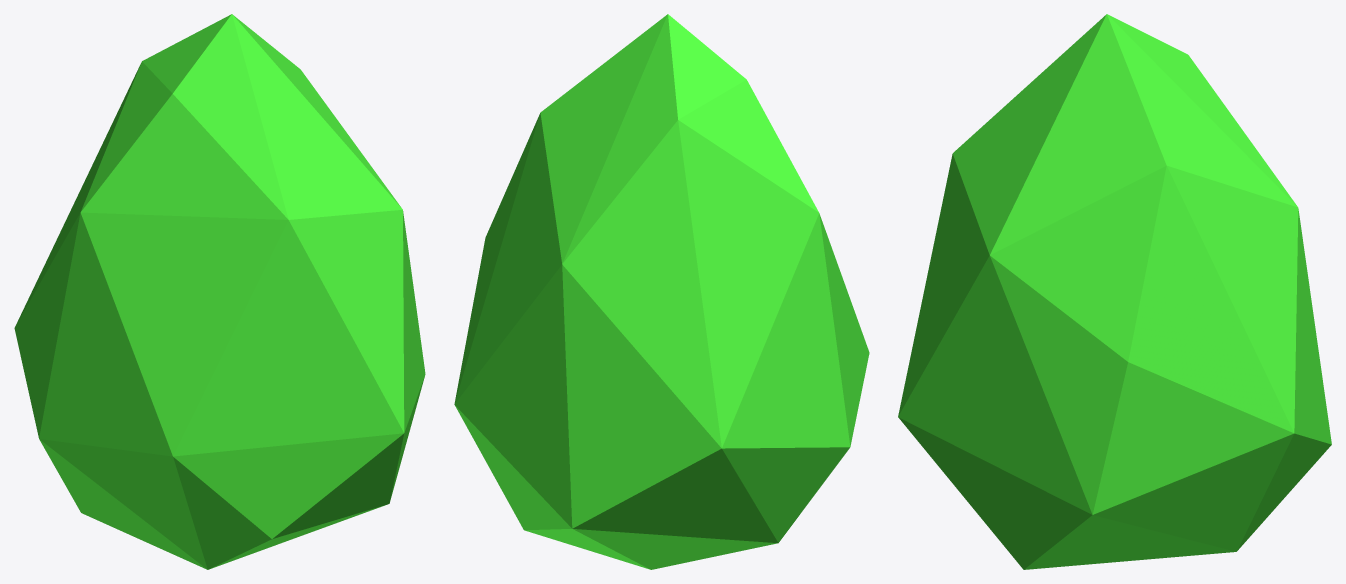
The picture shows the model from 3 angles, left to right: view 1: azimuth 30°, elevation 25°; view 2: azimuth 150°, elevation 25°; view 3: azimuth 270°, elevation 25°; orthographic projection.
Visible parts, largest first — view 1: Sphere.016; view 2: Sphere.016; view 3: Sphere.016.
Boxes of the visible parts, x1,y1,x2,y2 form: Sphere.016: [14, 14, 425, 569]; Sphere.016: [454, 14, 869, 569]; Sphere.016: [898, 14, 1331, 569].
Size of the model in its own units: 0.8187 by 1.12 by 0.8069.
